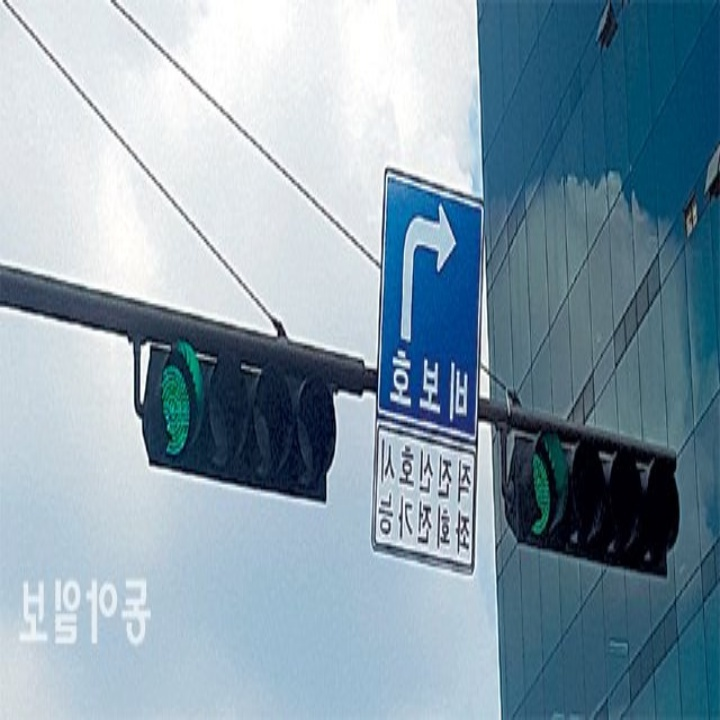right: (395, 195, 463, 348)
